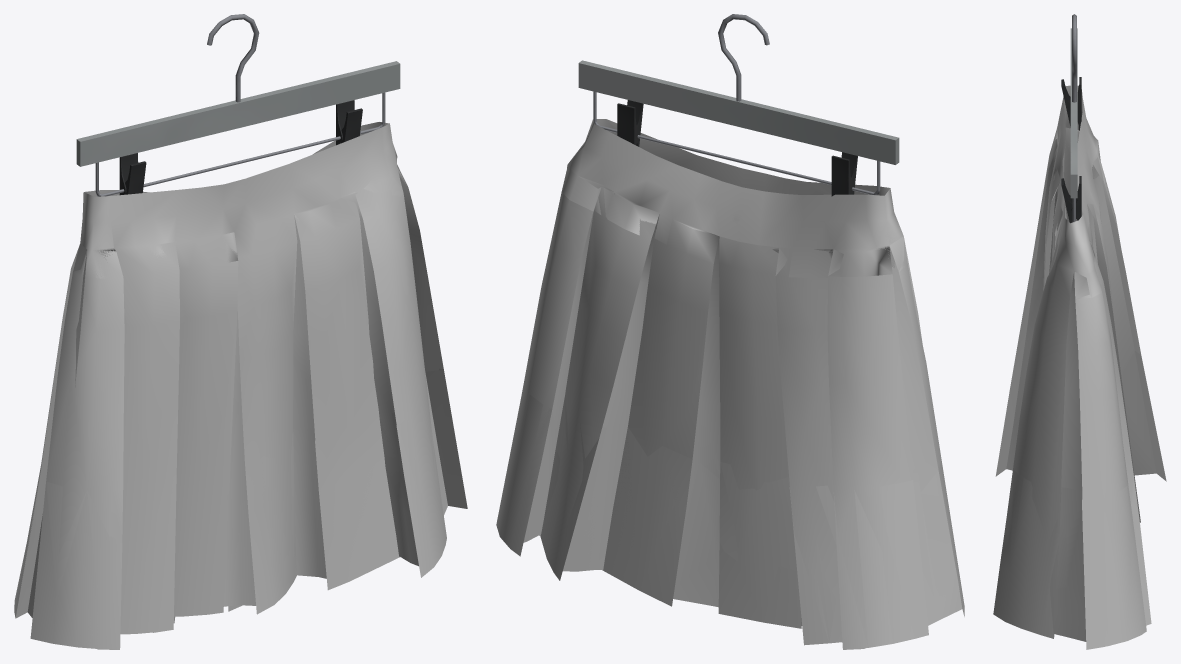
File: skirt.FBX
The picture shows the model from 3 angles, left to right: view 1: azimuth 30°, elevation 25°; view 2: azimuth 150°, elevation 25°; view 3: azimuth 270°, elevation 25°; orthographic projection. The views are drawn at different scales.
Visible parts, largest first — view 1: skirt-1_LOD0, _Hanger-4_LOD0; view 2: skirt-1_LOD0, _Hanger-4_LOD0; view 3: skirt-1_LOD0, _Hanger-4_LOD0.
Part boxes in pixels (x1,y1,x2,y2): skirt-1_LOD0: (14, 122, 467, 649); _Hanger-4_LOD0: (76, 14, 400, 196); skirt-1_LOD0: (496, 119, 964, 649); _Hanger-4_LOD0: (578, 14, 899, 196); skirt-1_LOD0: (993, 85, 1166, 649); _Hanger-4_LOD0: (1061, 14, 1081, 223).
Size of what is drawn, in the model's own units: 45.26 by 15.98 by 57.15.
